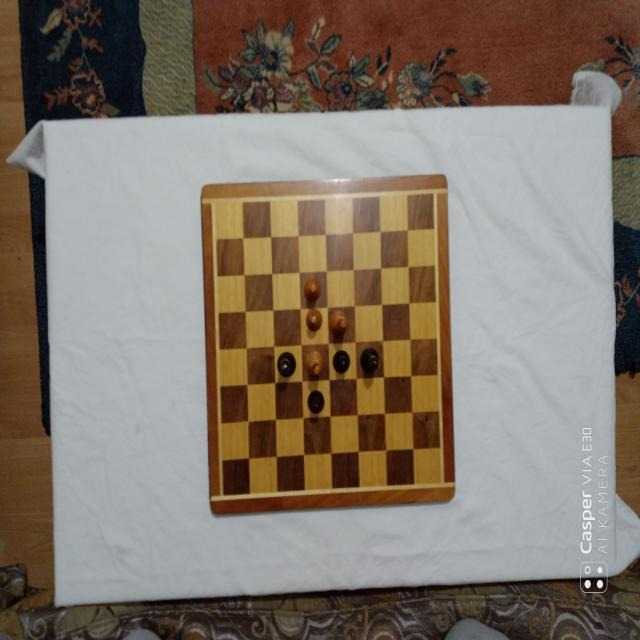black-bishop: (360, 347, 380, 375), (277, 350, 297, 377)
black-pawn: (333, 350, 351, 374), (307, 389, 324, 414)
white-bishop: (328, 308, 348, 335), (304, 350, 324, 376)
white-pawn: (302, 277, 321, 302), (305, 308, 322, 332)
